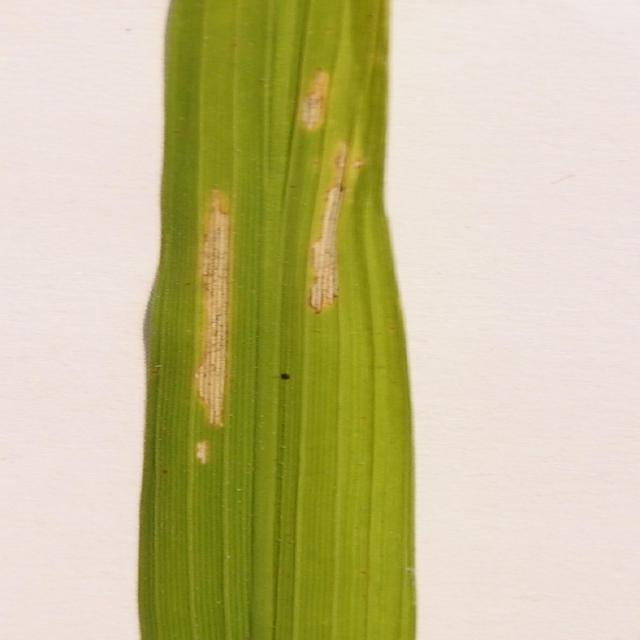leaf blight: (287, 71, 373, 333), (180, 185, 254, 469)
